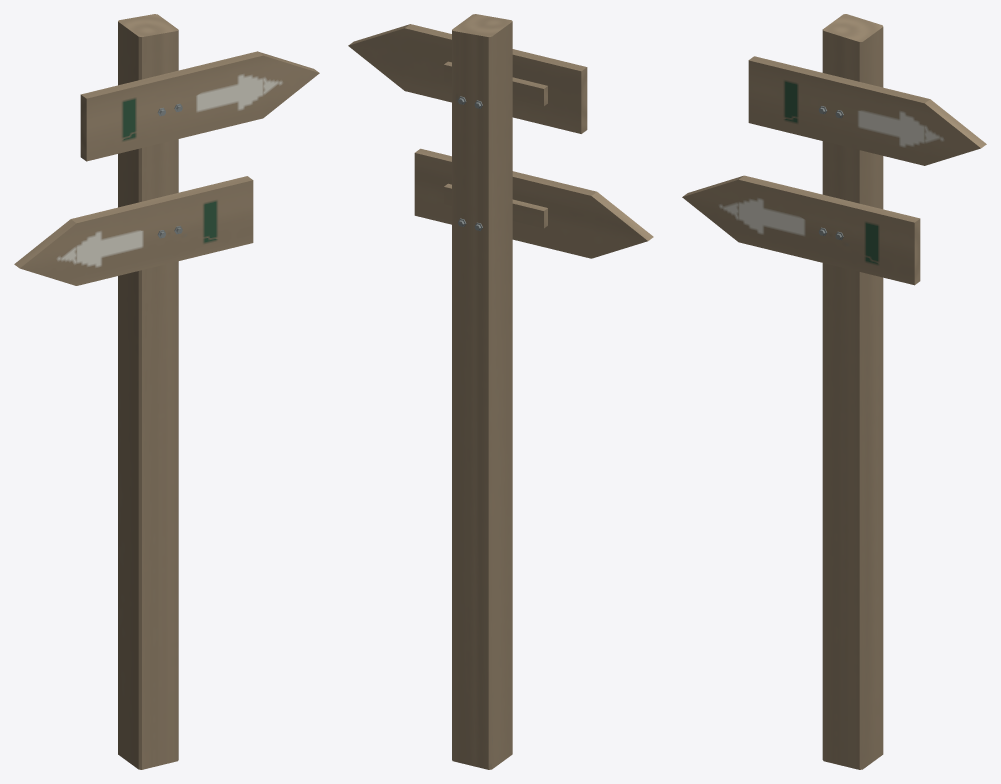
The model's file is forest_forest_trail_sign_painted.glb.
3 renders of one model, left to right at view 1: azimuth 30°, elevation 25°; view 2: azimuth 150°, elevation 25°; view 3: azimuth 330°, elevation 25°, orthographic.
Visible parts, largest first — view 1: ForestTrailSignPainted; view 2: ForestTrailSignPainted; view 3: ForestTrailSignPainted.
Boxes of the visible parts, x1,y1,x2,y2 form: ForestTrailSignPainted: (14, 14, 319, 769); ForestTrailSignPainted: (348, 14, 653, 769); ForestTrailSignPainted: (682, 14, 986, 769).
Size of what is drawn, in the model's own units: 0.9 by 2.1 by 0.192.
1 material, 1 textured.
